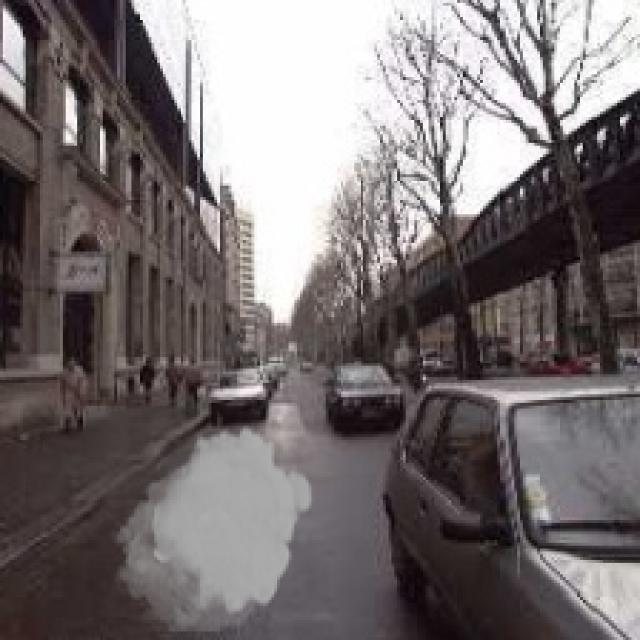smoke: (109, 423, 314, 631)
